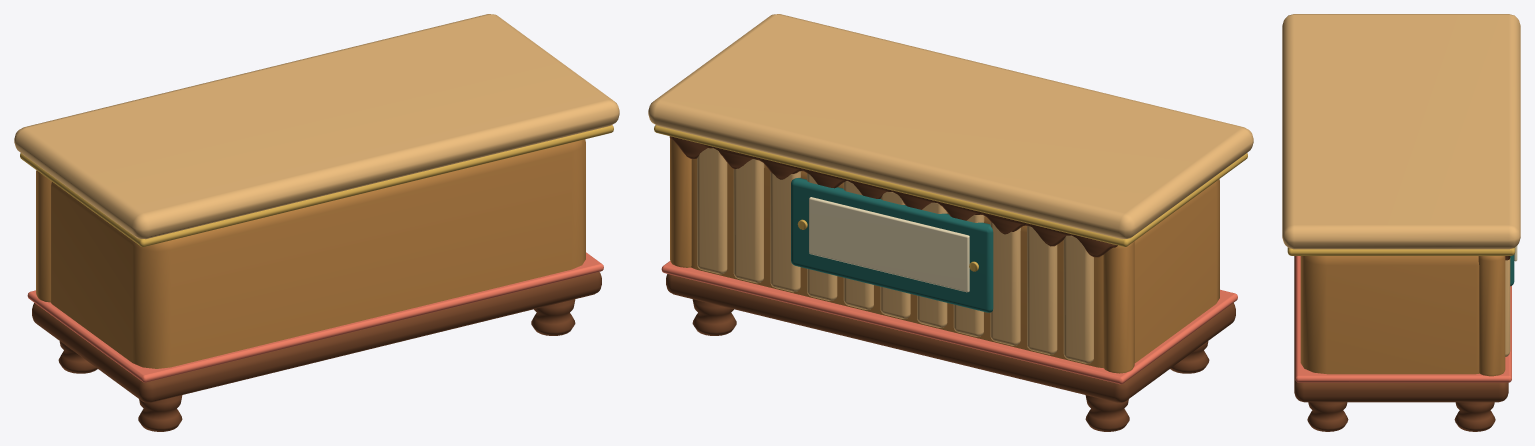
Rendered from ServiceCounter.fbx.
3 renders of one model, left to right at view 1: azimuth 30°, elevation 25°; view 2: azimuth 150°, elevation 25°; view 3: azimuth 270°, elevation 25°, orthographic. The views are drawn at different scales.
Parts seen in each view (by area): view 1: ServiceCounter_Visual; view 2: ServiceCounter_Visual; view 3: ServiceCounter_Visual.
Part boxes in pixels (x1,y1,x2,y2): ServiceCounter_Visual: [14, 14, 619, 431]; ServiceCounter_Visual: [648, 14, 1253, 431]; ServiceCounter_Visual: [1282, 14, 1520, 431].
Size of the model in its own units: 2.4 by 1.1 by 1.1.
